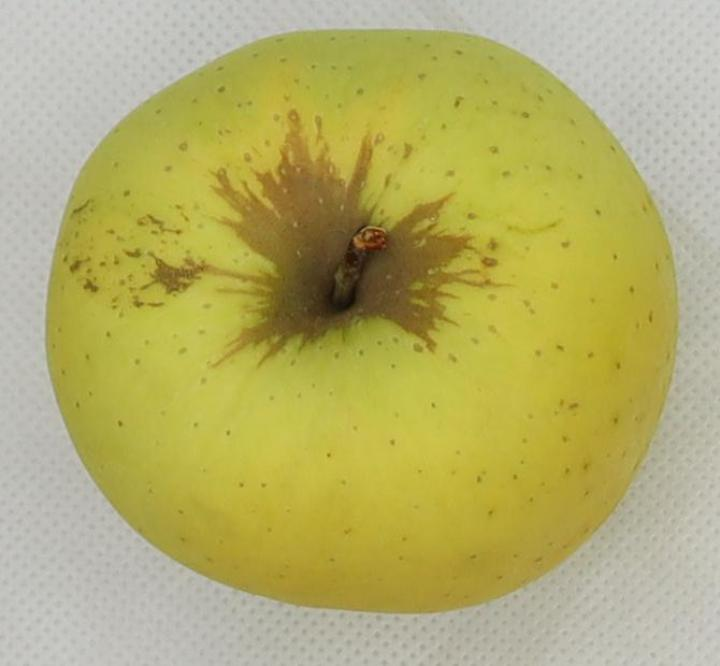apple: (47, 30, 676, 610)
bruise_discoloration: (136, 109, 493, 364)
